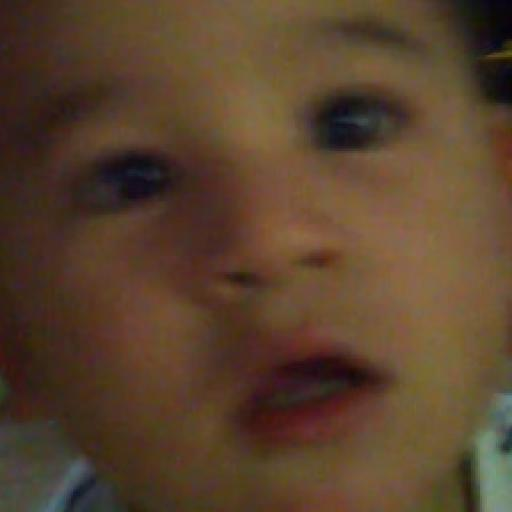Autism: (3, 5, 512, 512)
